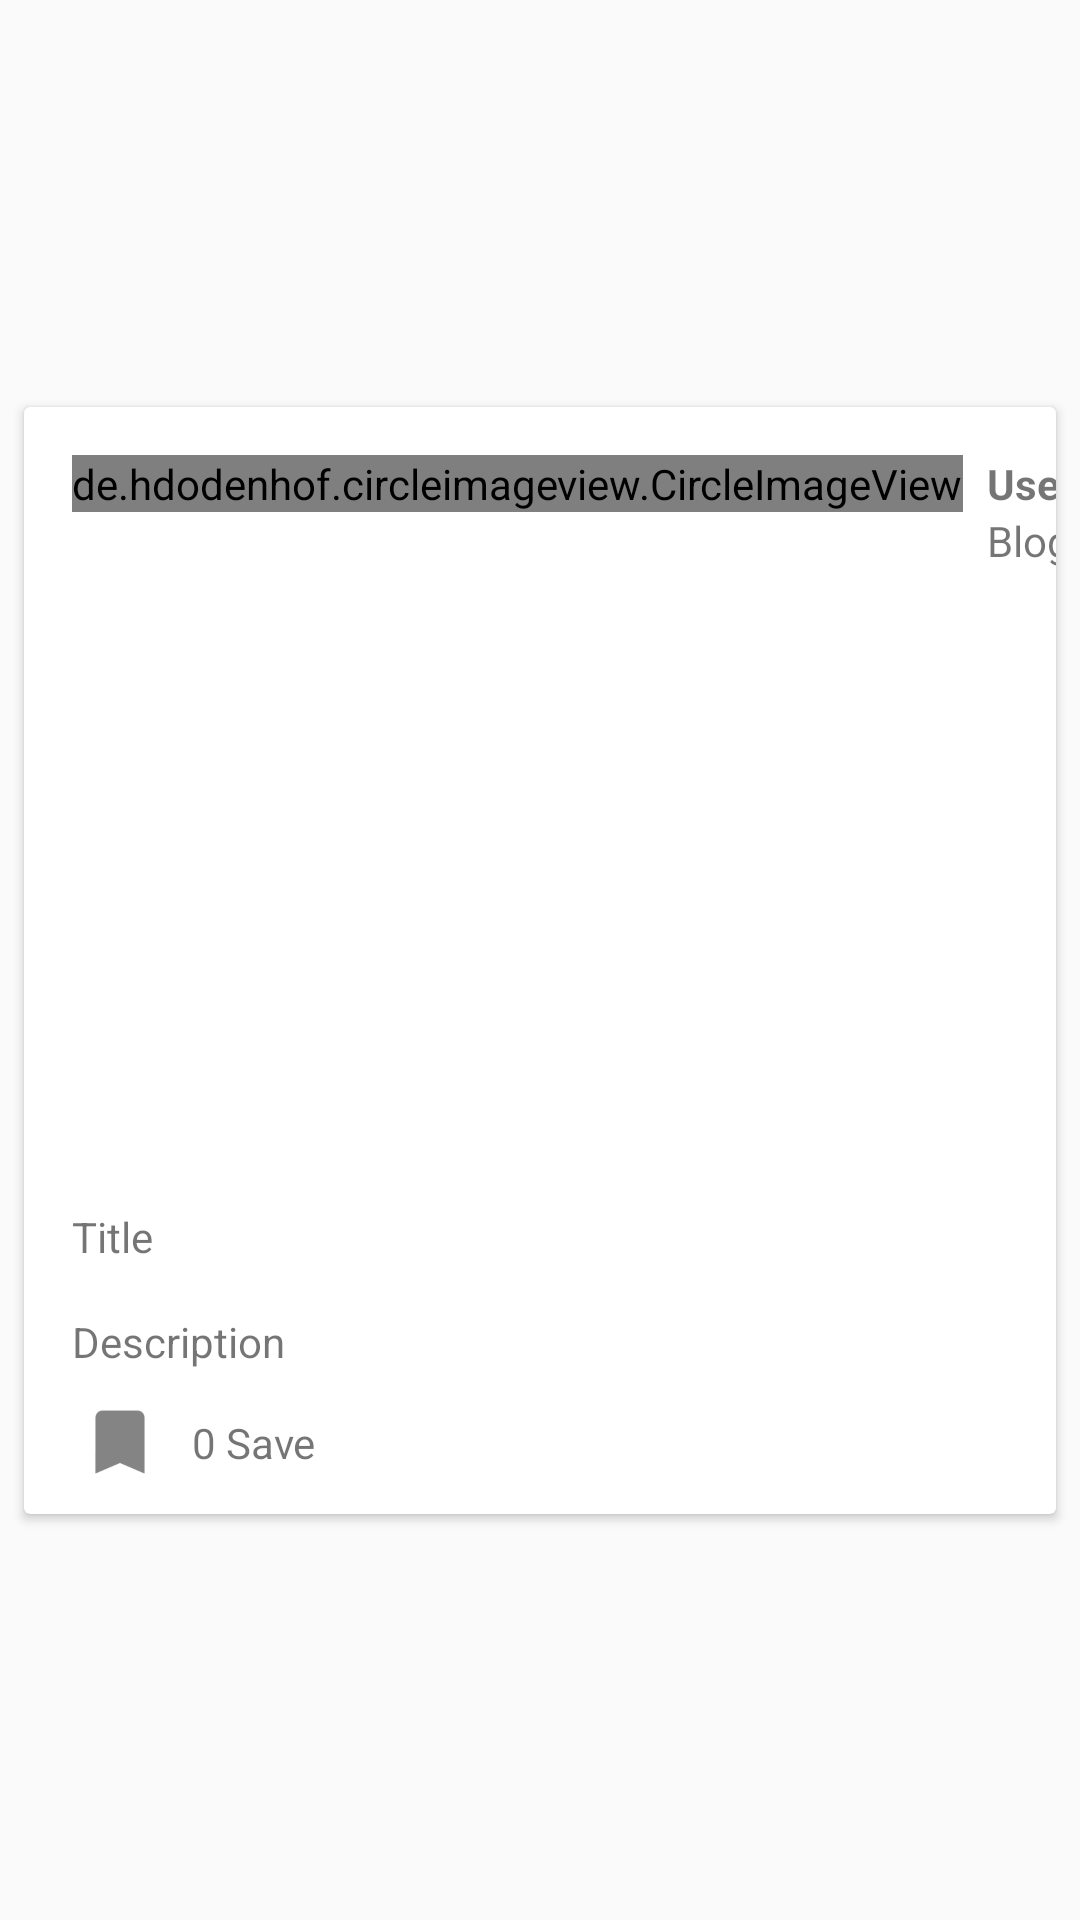

Named icons in this screenshot (1080w x 1920h) and their bounding boxes, (x1, y1, x2, y2):
bookmark: (95, 1410, 145, 1474)
